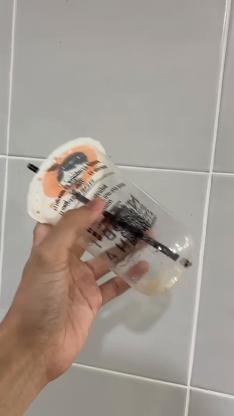Plastic Cup: (29, 139, 197, 298)
